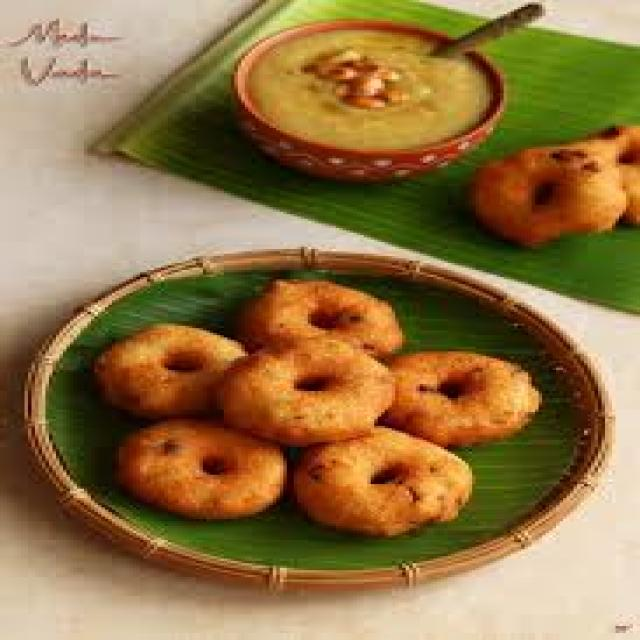MEDU VADA: (219, 337, 403, 442), (294, 432, 473, 535), (475, 143, 628, 247), (128, 421, 284, 521), (380, 351, 538, 445), (105, 322, 243, 415), (250, 282, 404, 351)
